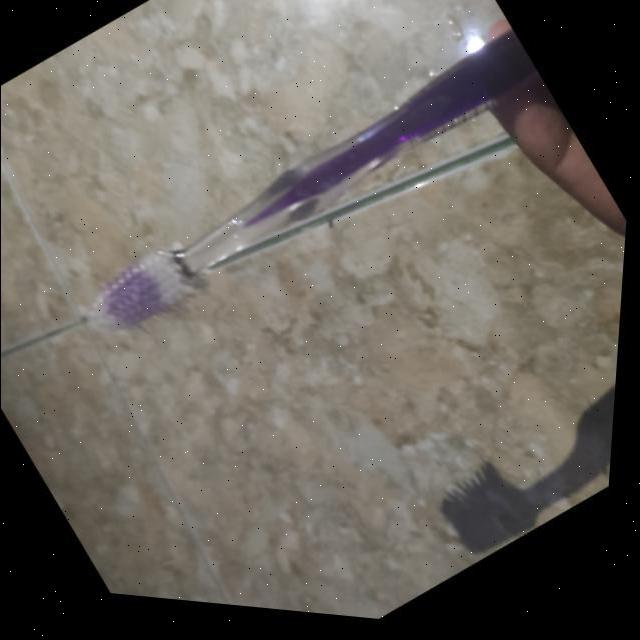toothbrush: (70, 6, 548, 384)
